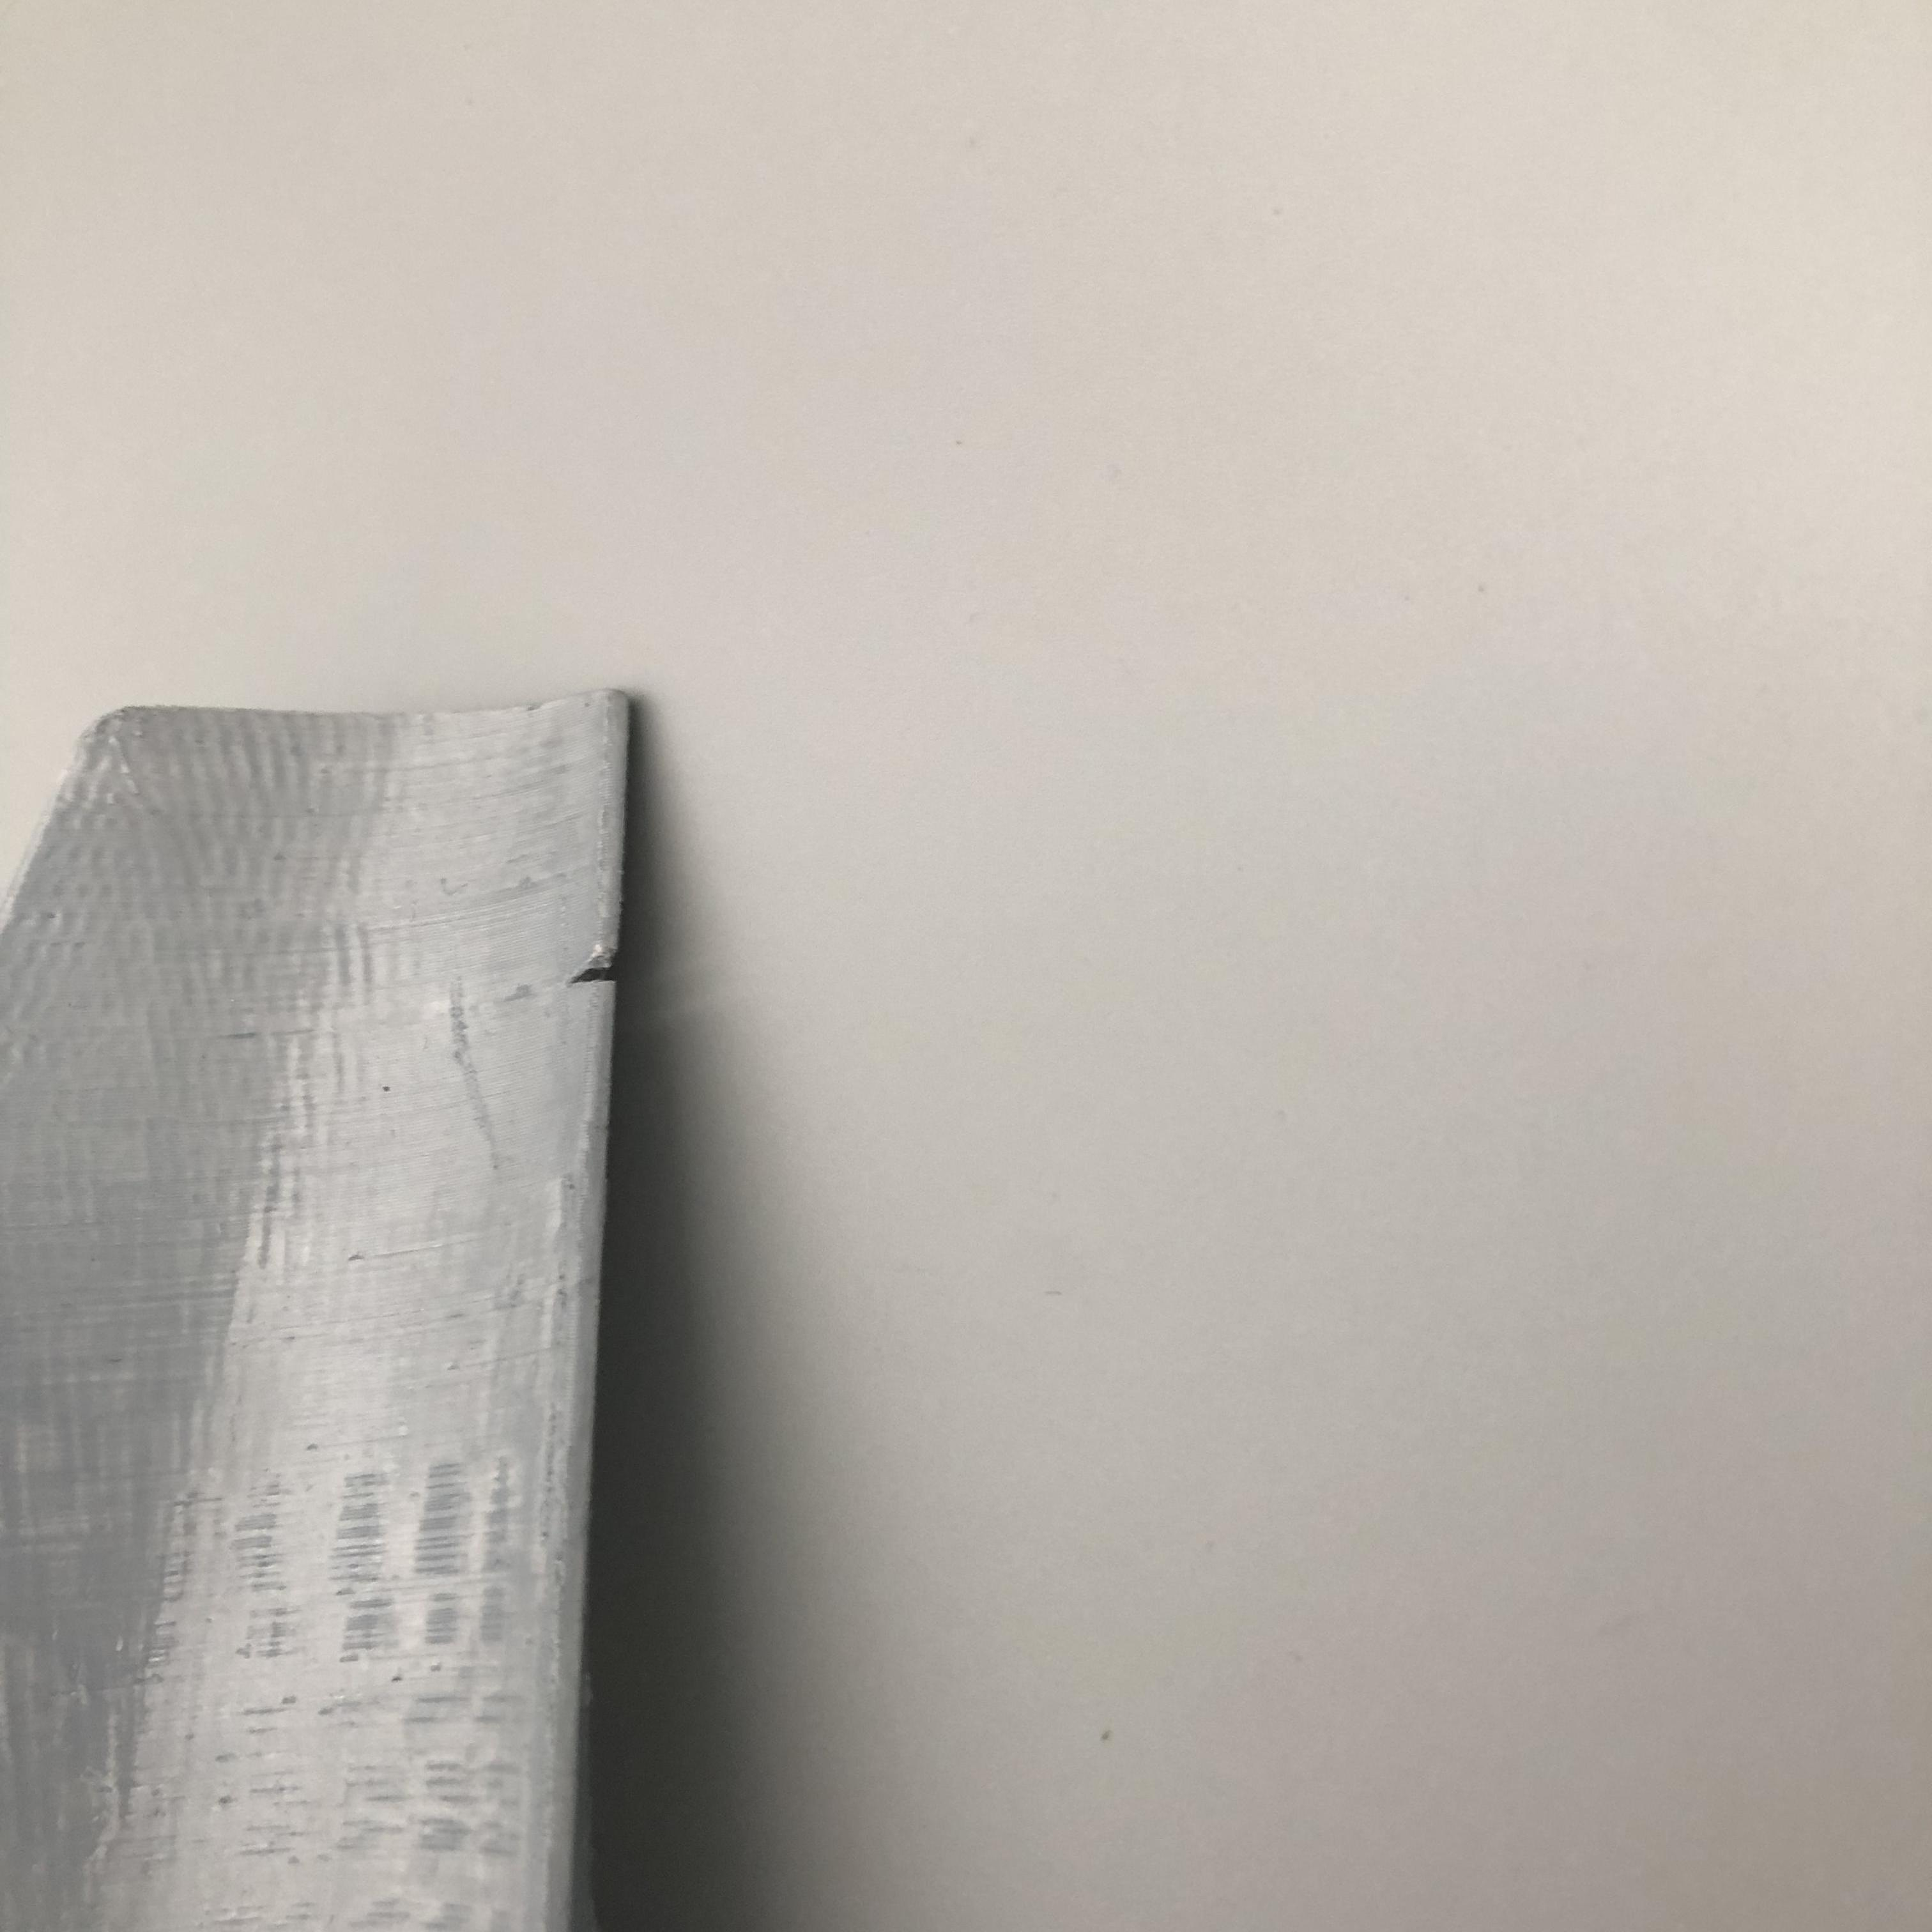groove: (559, 957, 628, 994)
